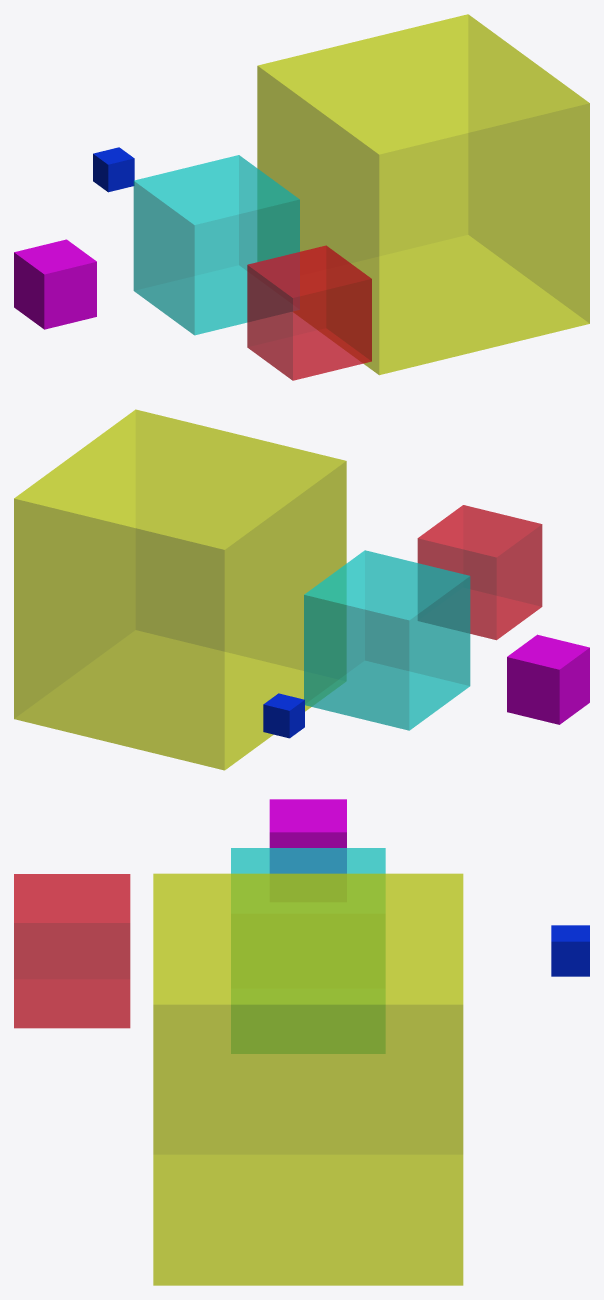
Rendered from CubeScaleTest1.glb.
The picture shows the model from 3 angles, top to bottom: view 1: azimuth 30°, elevation 25°; view 2: azimuth 150°, elevation 25°; view 3: azimuth 270°, elevation 25°; orthographic projection. The views are drawn at different scales.
Visible parts, largest first — view 1: Cube.004, Cube, Cube.003, Cube.002, Cube.001; view 2: Cube.004, Cube, Cube.003, Cube.002, Cube.001; view 3: Cube.004, Cube, Cube.003, Cube.002, Cube.001.
Part boxes in pixels (x1,y1,x2,y2): Cube.004: (257,14,589,375); Cube: (133,155,299,335); Cube.003: (247,245,371,380); Cube.002: (14,239,96,329); Cube.001: (93,147,134,192); Cube.004: (14,409,346,770); Cube: (304,550,470,730); Cube.003: (417,505,542,640); Cube.002: (507,634,589,724); Cube.001: (263,693,304,738); Cube.004: (153,873,463,1285); Cube: (231,848,385,1053); Cube.003: (14,874,130,1028); Cube.002: (269,799,346,873); Cube.001: (551,925,589,976).
Bounding box in the file's own units: 9.49 × 4 × 7.44.
